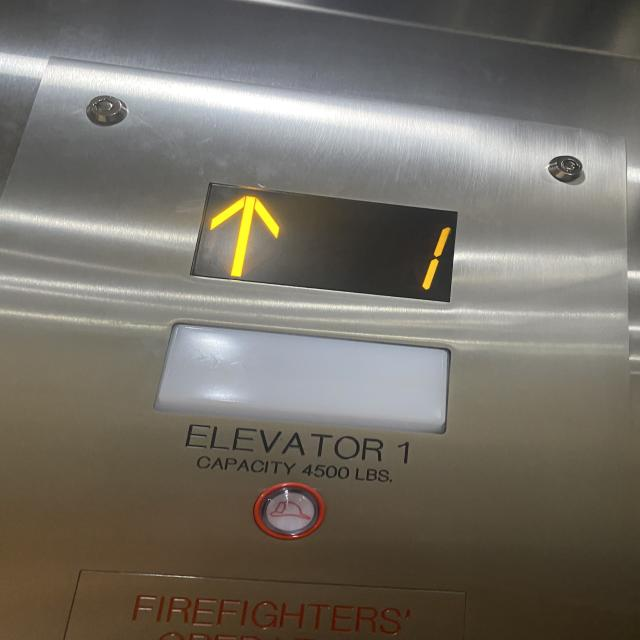box: (182, 177, 480, 304)
